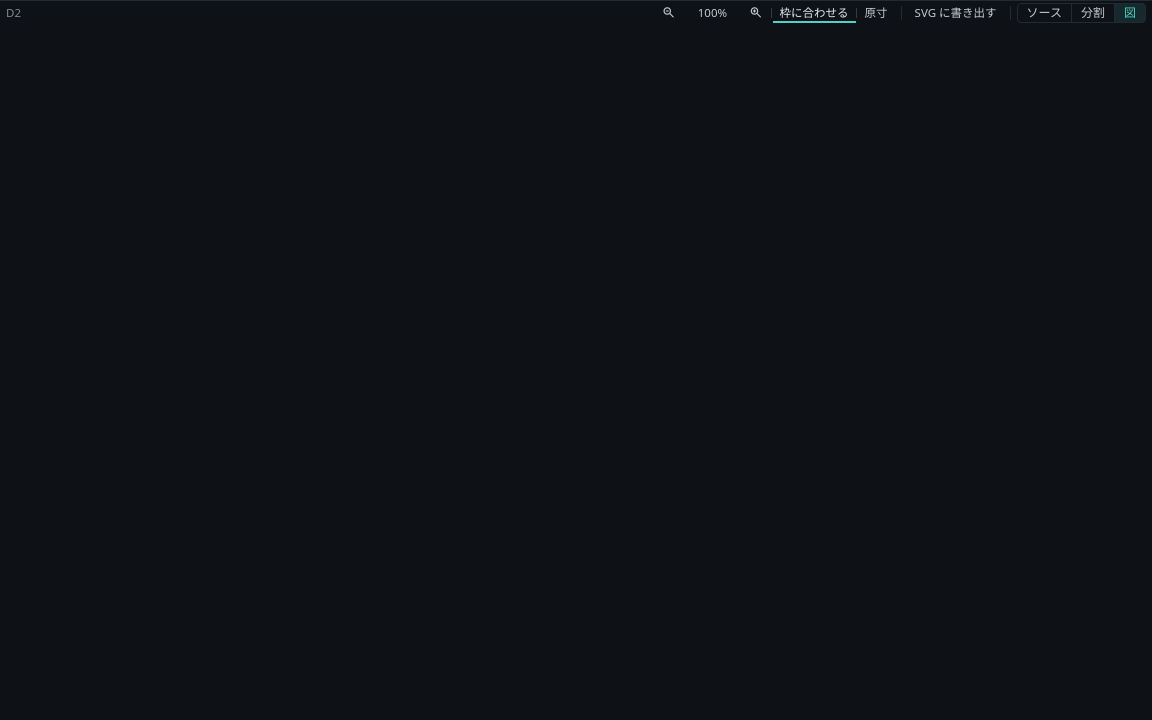
Test case: .d2 のファイル › 「SVG に書き出す」は確認してから、開いている .d2 の道筋で書き出す
Click the button "SVG に書き出す". click: (956, 12)
box: x1=908 y1=2 x2=1004 y2=22
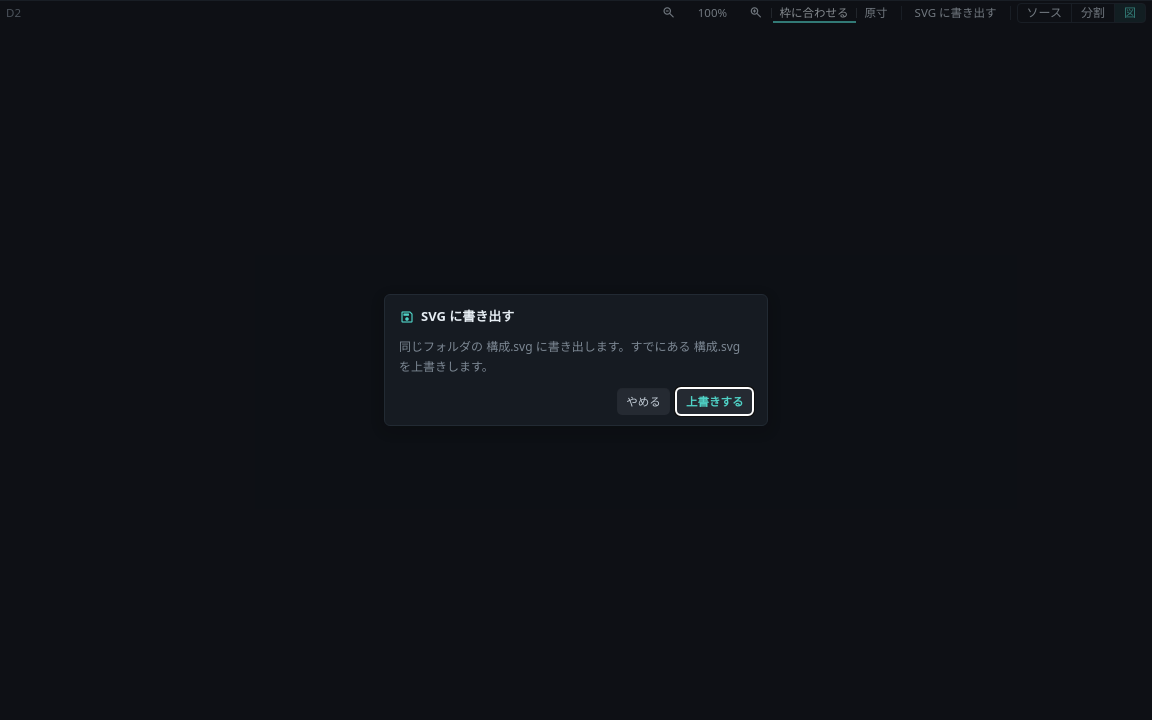
Expected: the dialog shows "構成.svg を上書きします", x1=384 y1=294 x2=768 y2=426
Click the button "上書きする". click: (715, 401)
box: x1=676 y1=388 x2=753 y2=414
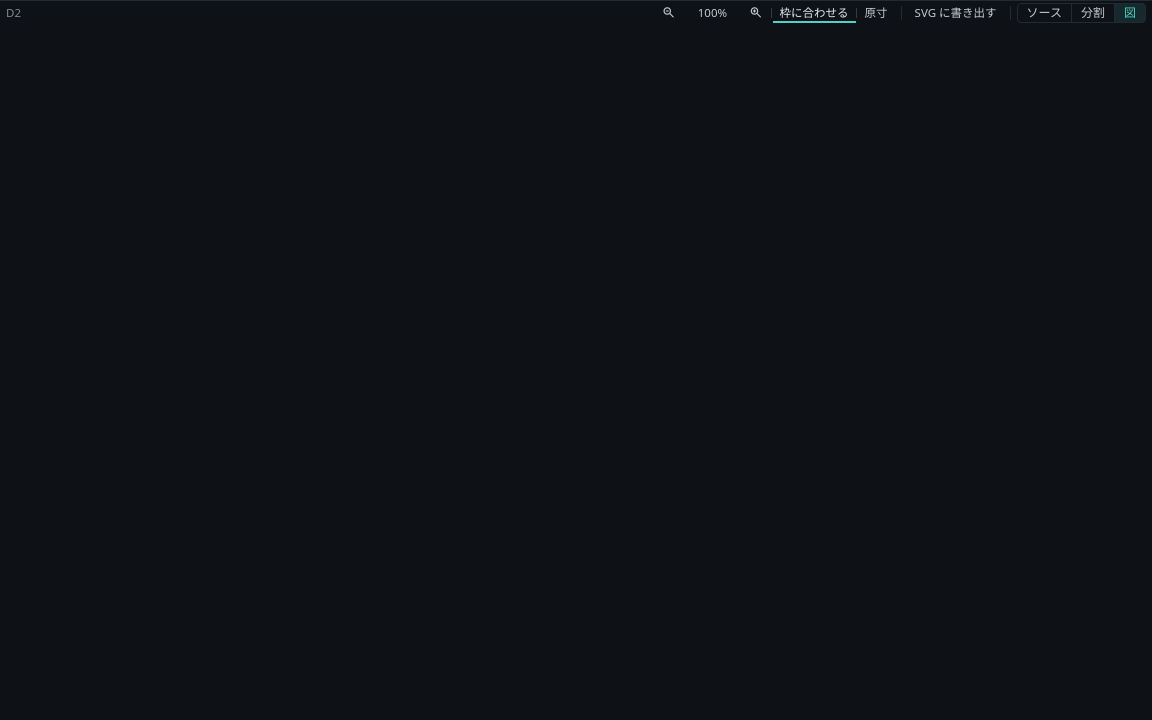
Expected: the dialog is gone
